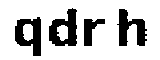d: (46, 6, 78, 53)
h: (112, 6, 152, 52)
q: (12, 15, 45, 60)
r: (80, 16, 106, 49)
